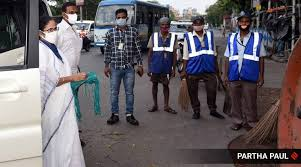mask: (37, 17, 56, 44), (63, 3, 75, 22), (113, 10, 126, 24), (236, 18, 250, 31), (159, 19, 170, 32), (192, 20, 203, 31)
